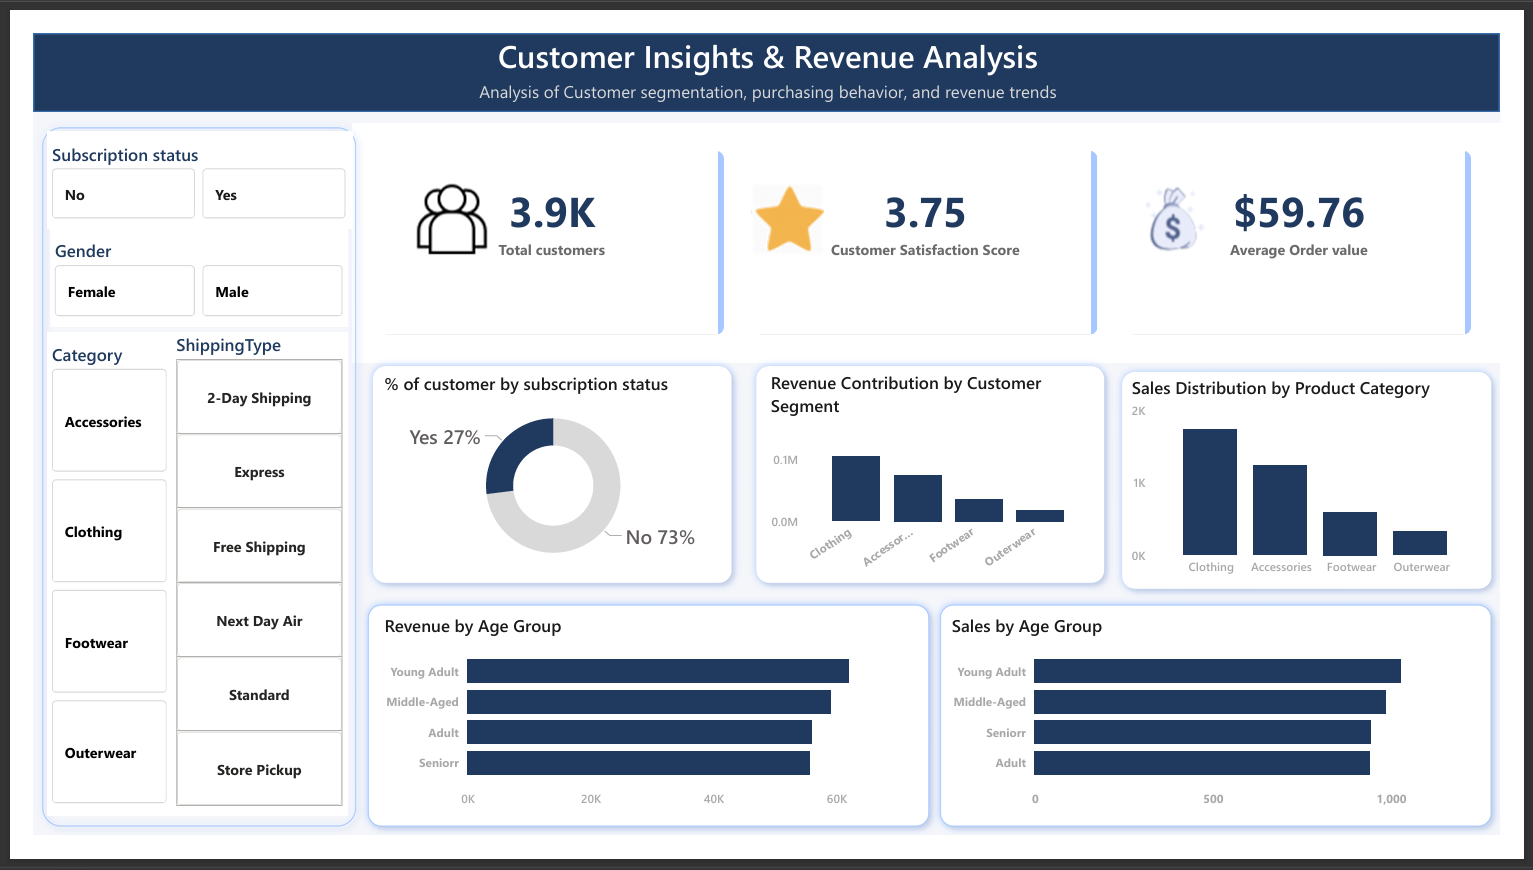

Layout of this report page (visuals, bound fields, positions):
{"tool":"powerbi","page":{"name":"Page 1","canvas":[1500,820],"ordinal":0},"visuals":[{"type":"cardVisual","fields":{"Data":["public customer.number of customers","public customer.Average review rating","public customer.AveragePurchaseRounded"]},"box":[325.6,92.1,1174.8,244.6],"z":0},{"type":"shape","box":[338.4,331.5,384.4,239.5],"z":1000},{"type":"donutChart","title":"% of customer by subscription status","fields":{"Category":["public customer.subscription_status"],"Y":["CountNonNull(public customer.customer_id)"]},"box":[354.4,345.6,354.4,211.1],"z":2000},{"type":"shape","box":[729.8,331.5,374.6,239.5],"z":3000},{"type":"shape","box":[1104.4,337,395.5,239.5],"z":4000},{"type":"clusteredColumnChart","title":"Revenue Contribution by Customer Segment","fields":{"Category":["public customer.category"],"Y":["Sum(public customer.purchase_amount)"]},"box":[749.3,345.4,337,213.1],"z":5000},{"type":"clusteredColumnChart","title":"Sales Distribution by Product Category","fields":{"Y":["CountNonNull(public customer.customer_id)"],"Category":["public customer.category"]},"box":[1118.3,349.6,363.5,214.5],"z":6000},{"type":"shape","box":[0,87.1,338.6,732.9],"z":7000},{"type":"advancedSlicerVisual","title":"Gender","fields":{"Values":["public customer.gender"]},"box":[17.1,200,304.3,100],"z":8000},{"type":"advancedSlicerVisual","title":"Subscription status","fields":{"Values":["public customer.subscription_status"]},"box":[14.3,100,311.4,100],"z":9000},{"type":"advancedSlicerVisual","title":"Category","fields":{"Values":["public customer.category"]},"box":[14.3,305.7,127.1,494.3],"z":10000},{"type":"advancedSlicerVisual","title":"ShippingType","fields":{"Values":["public customer.shipping_type"]},"box":[141.4,305.7,180,494.3],"z":11000},{"type":"shape","box":[332.8,575.2,591.9,245.1],"z":12000},{"type":"clusteredBarChart","title":"Revenue by Age Group","fields":{"Y":["Sum(public customer.purchase_amount)"],"Category":["public customer.age_group"]},"box":[353.7,593.3,545.9,207.5],"z":13000},{"type":"shape","box":[917.8,575.2,582.1,245.1],"z":14000},{"type":"clusteredBarChart","title":"Sales by Age Group","fields":{"Y":["CountNonNull(public customer.customer_id)"],"Category":["public customer.age_group"]},"box":[934.5,593.3,547.3,207.5],"z":15000},{"type":"shape","box":[0,0,1498.6,80],"z":16000},{"type":"textbox","title":"Customer Insights & Revenue Analysis","box":[2.4,0,1497.6,79.3],"z":17000},{"type":"actionButton","box":[387.5,129.2,81.1,122.3],"z":18000},{"type":"actionButton","box":[729.6,127.8,82.4,123.7],"z":20500},{"type":"actionButton","box":[1126.7,127.8,81.1,122.3],"z":21000}]}

Visuals, with their boxes on the page's 1500x820 design canvas (x1, y1, x2, y2). These are canvas units, not pixel positions in the 1533x870 screenshot, which may show the page scaled, cropped or inside an application window:
cardVisual - public customer.number of customers x public customer.Average review rating: 326,92,1500,337
shape: 338,332,723,571
"% of customer by subscription status" donutChart: 354,346,709,557
shape: 730,332,1104,571
shape: 1104,337,1500,576
"Revenue Contribution by Customer Segment" clusteredColumnChart: 749,345,1086,558
"Sales Distribution by Product Category" clusteredColumnChart: 1118,350,1482,564
shape: 0,87,339,820
"Gender" advancedSlicerVisual: 17,200,321,300
"Subscription status" advancedSlicerVisual: 14,100,326,200
"Category" advancedSlicerVisual: 14,306,141,800
"ShippingType" advancedSlicerVisual: 141,306,321,800
shape: 333,575,925,820
"Revenue by Age Group" clusteredBarChart: 354,593,900,801
shape: 918,575,1500,820
"Sales by Age Group" clusteredBarChart: 934,593,1482,801
shape: 0,0,1499,80
"Customer Insights & Revenue Analysis" textbox: 2,0,1500,79
actionButton: 388,129,469,252
actionButton: 730,128,812,252
actionButton: 1127,128,1208,250
